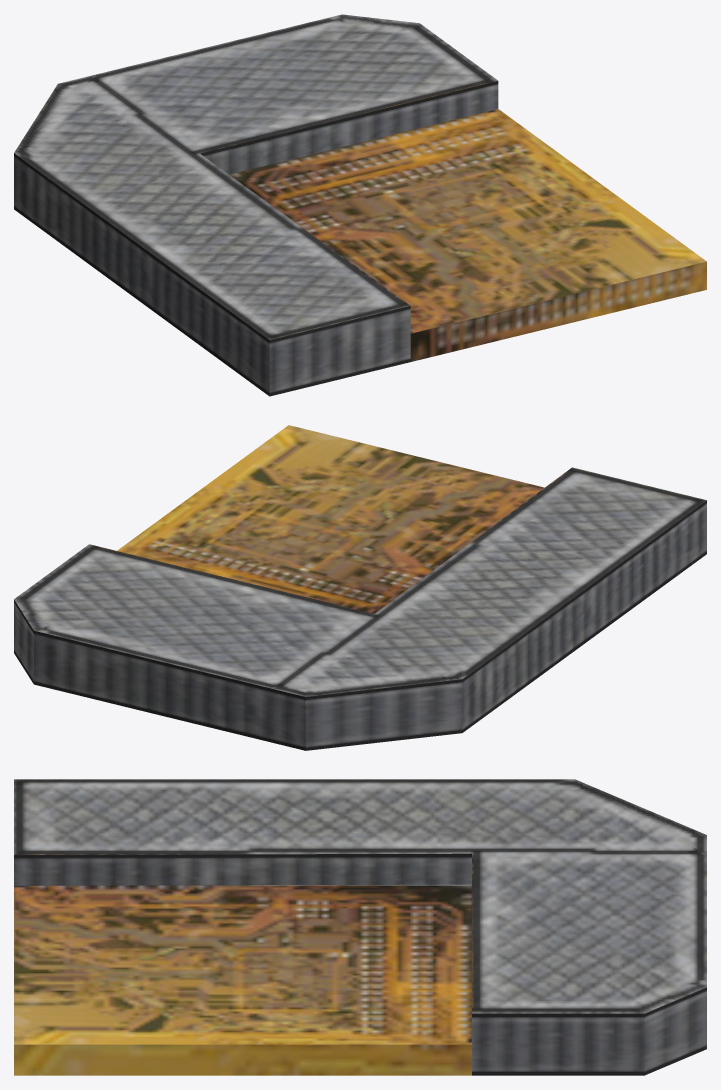
File: key.FBX
3 renders of one model, top to bottom at view 1: azimuth 30°, elevation 25°; view 2: azimuth 150°, elevation 25°; view 3: azimuth 270°, elevation 25°, orthographic. The views are drawn at different scales.
Visible parts, largest first — view 1: Key; view 2: Key; view 3: Key.
Part boxes in pixels (x1,y1,x2,y2): Key: (14, 14, 706, 396); Key: (14, 425, 706, 750); Key: (14, 779, 706, 1075).
Size of the model in its own units: 8 by 10 by 0.9855.
